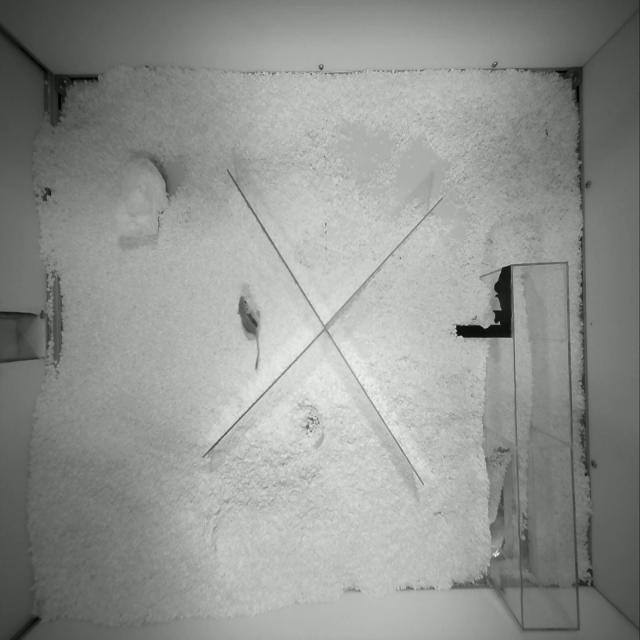pup_v_stripe: (238, 295, 260, 370)
